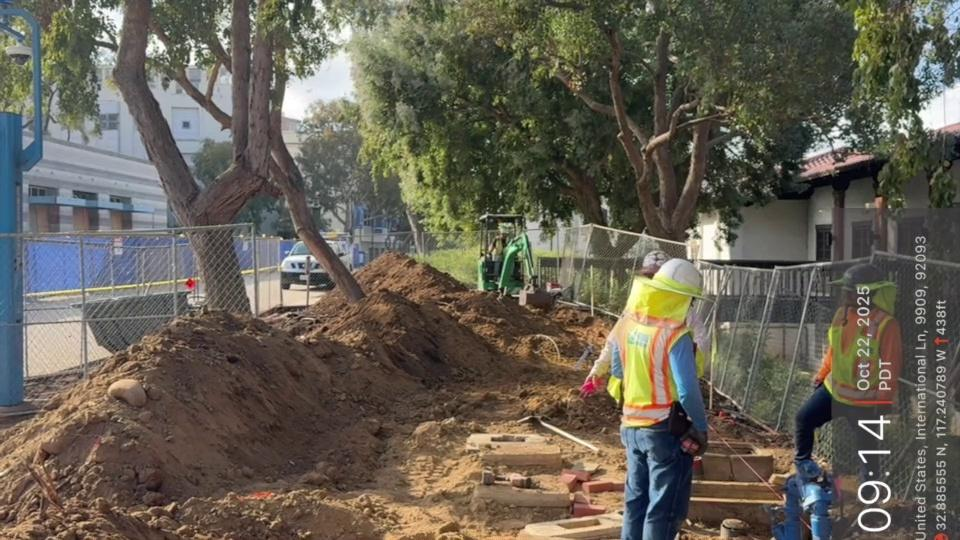Exacavator: (474, 211, 561, 309)
